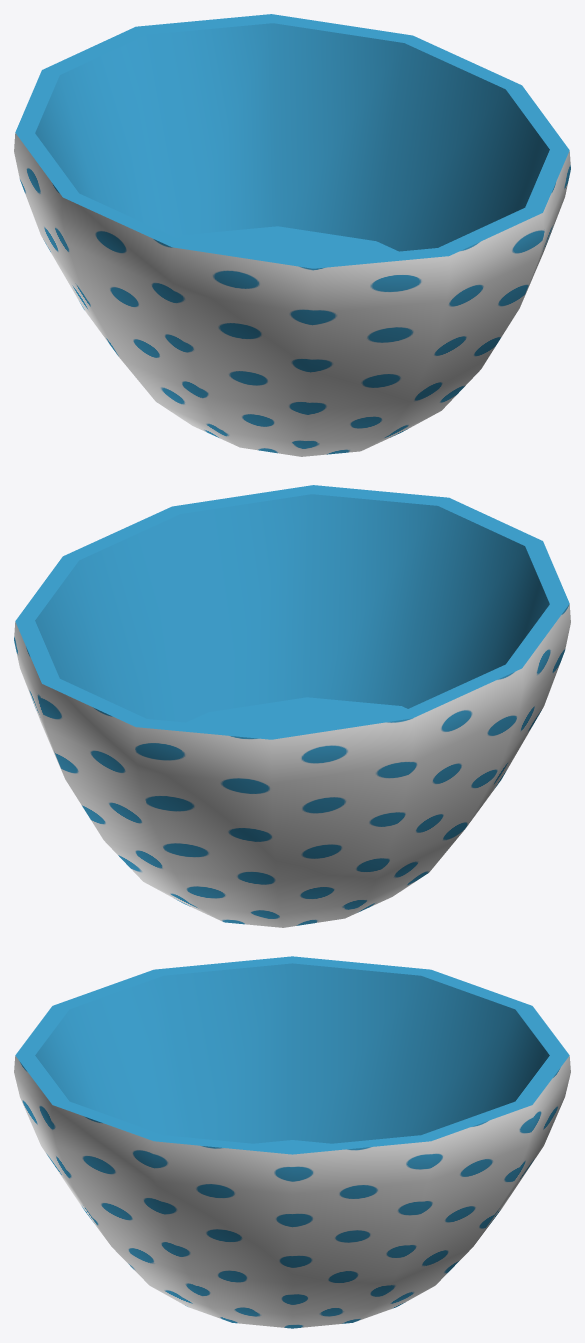
The model's file is bowl1.fbx.
The picture shows the model from 3 angles, top to bottom: view 1: azimuth 30°, elevation 25°; view 2: azimuth 150°, elevation 25°; view 3: azimuth 270°, elevation 25°; orthographic projection. The views are drawn at different scales.
Visible parts, largest first — view 1: pCylinder1; view 2: pCylinder1; view 3: pCylinder1.
Boxes of the visible parts, left/top/right/bottom form: pCylinder1: left=14, top=14, right=570, bottom=456; pCylinder1: left=14, top=485, right=570, bottom=927; pCylinder1: left=14, top=956, right=570, bottom=1328.
Bounding box in the file's own units: 0.8327 × 0.4485 × 0.9844.
Materials: 1 (1 with a texture image).
